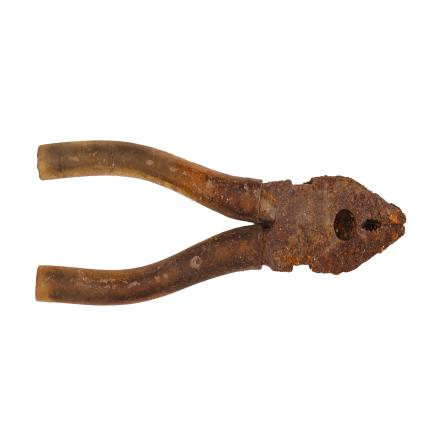karat: (36, 141, 405, 305)
